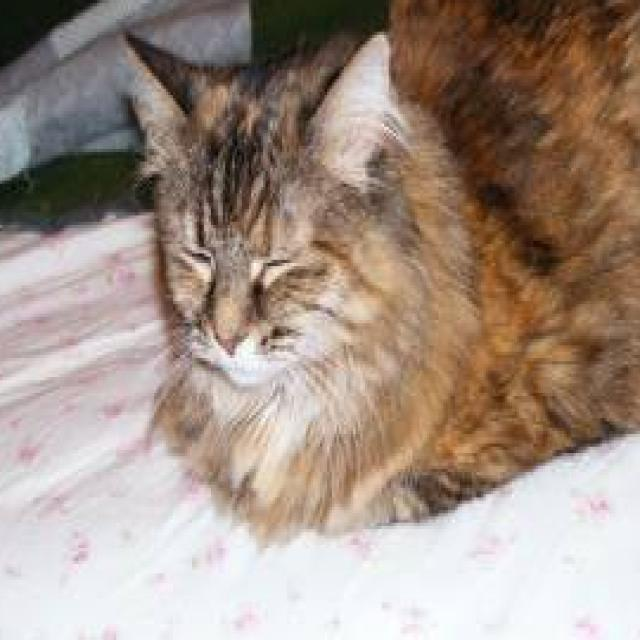Maine Coon: (102, 0, 640, 539)
